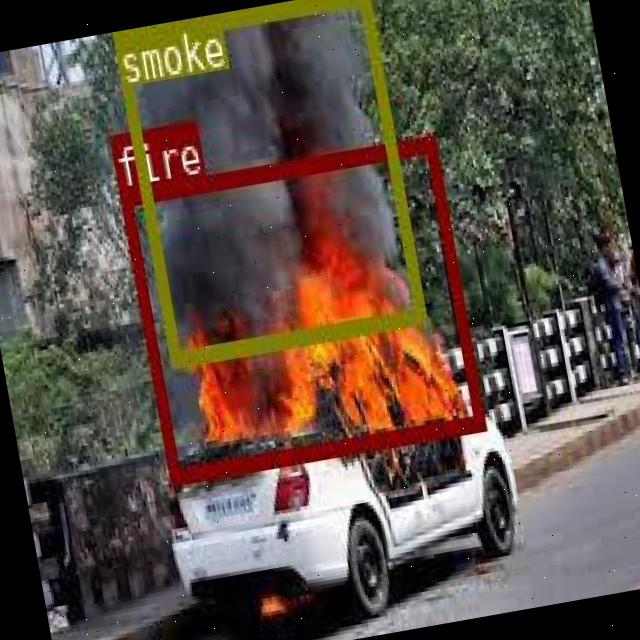fire: (118, 135, 482, 481)
smoke: (110, 0, 423, 366)
